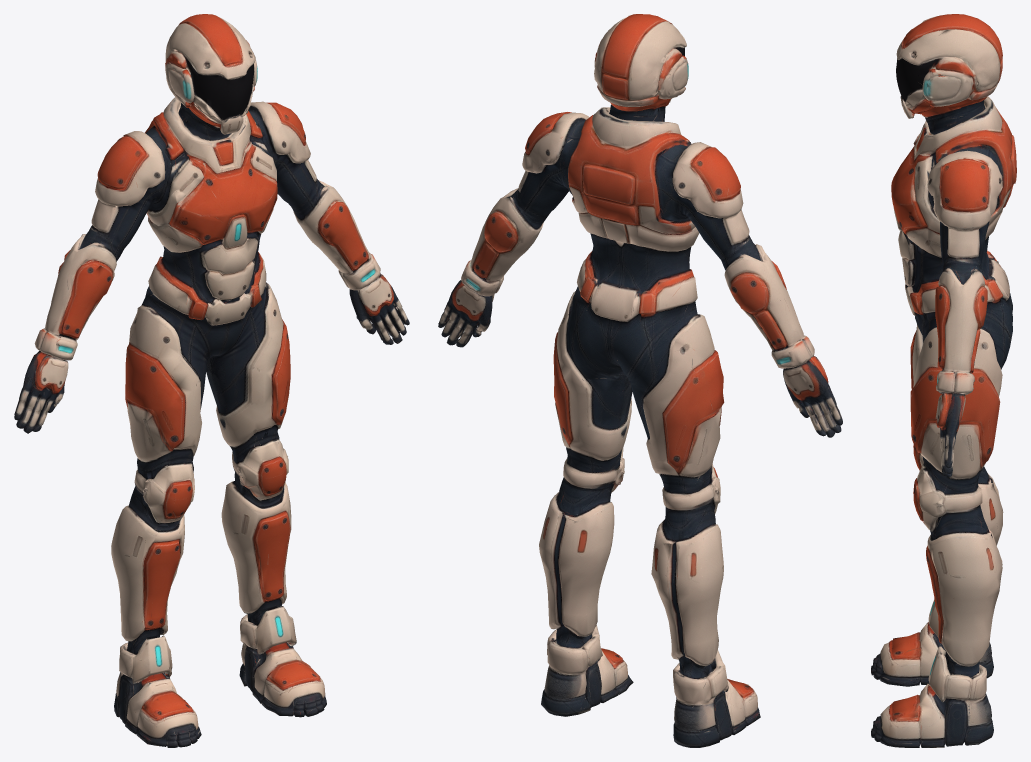
The model's file is player.glb.
3 renders of one model, left to right at view 1: azimuth 30°, elevation 25°; view 2: azimuth 150°, elevation 25°; view 3: azimuth 270°, elevation 25°, orthographic. The views are drawn at different scales.
Bounding box in the file's own units: 0.5757 × 0.9502 × 0.1831.
1 material, 1 textured.
